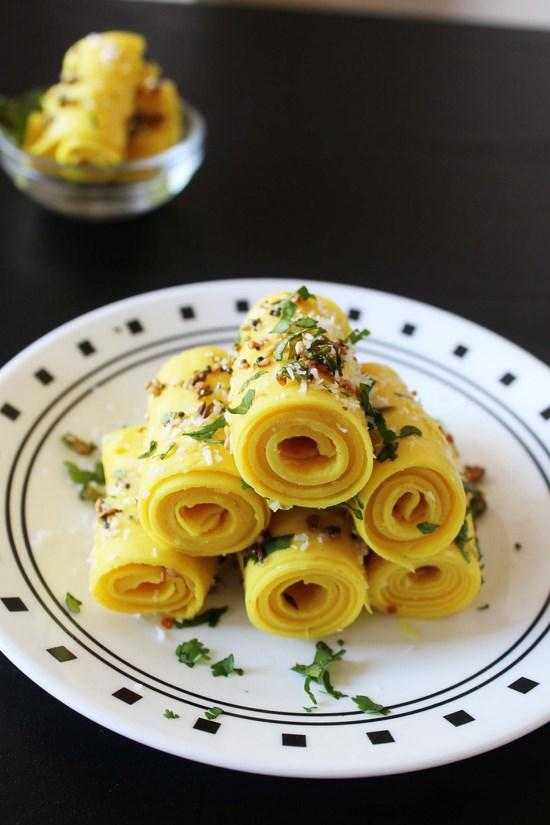khandvi: (104, 292, 492, 644)
